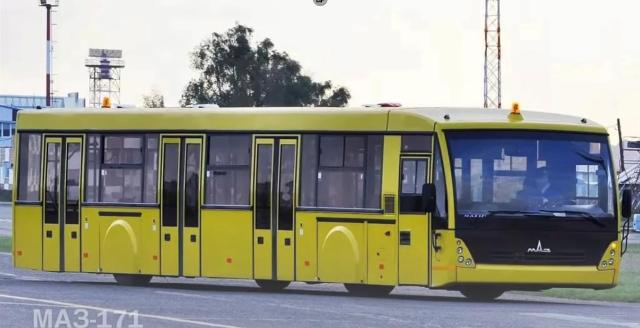bus: (9, 96, 629, 302)
